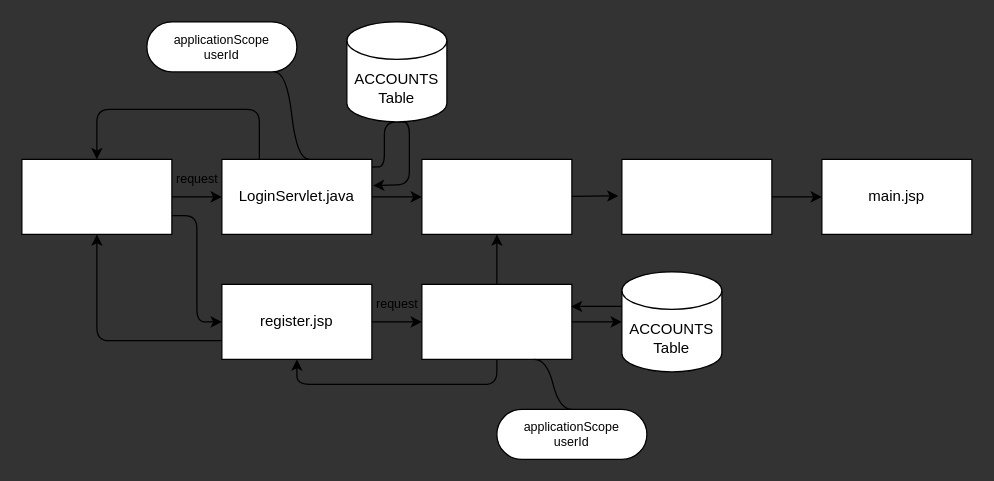
The diagram is 994 pixels wide and 481 high, and some of its shapes have lost their labels. Each missing label, with the box of its shape:
index.jsp: (21, 158, 172, 234)
loginSuccess.jsp: (421, 158, 572, 234)
MainServlet.java: (621, 158, 772, 234)
RegisterServlet.java: (421, 283, 572, 359)
